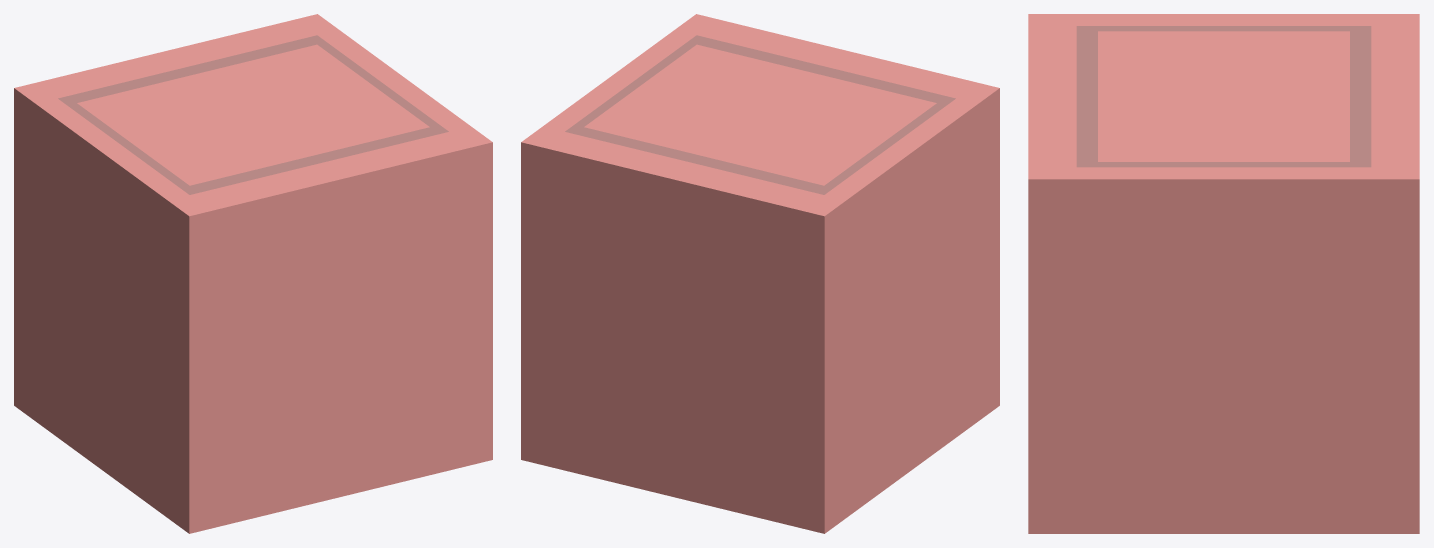
Rendered from kn-rug-rectangle.glb.
The picture shows the model from 3 angles, left to right: view 1: azimuth 30°, elevation 25°; view 2: azimuth 150°, elevation 25°; view 3: azimuth 270°, elevation 25°; orthographic projection. The views are drawn at different scales.
Visible parts, largest first — view 1: rugRectangle(Clone); view 2: rugRectangle(Clone); view 3: rugRectangle(Clone).
Part boxes in pixels (<box>): rugRectangle(Clone): <box>14,14,492,533</box>; rugRectangle(Clone): <box>521,14,999,533</box>; rugRectangle(Clone): <box>1028,14,1419,533</box>.
Bounding box in the file's own units: 1 × 1 × 1.
